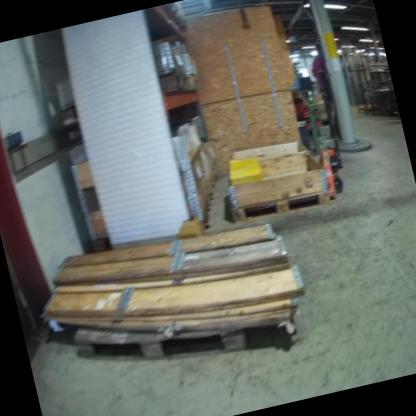pallet: (70, 289, 250, 389), (229, 184, 333, 231)
pallet_truck: (295, 64, 364, 209)
